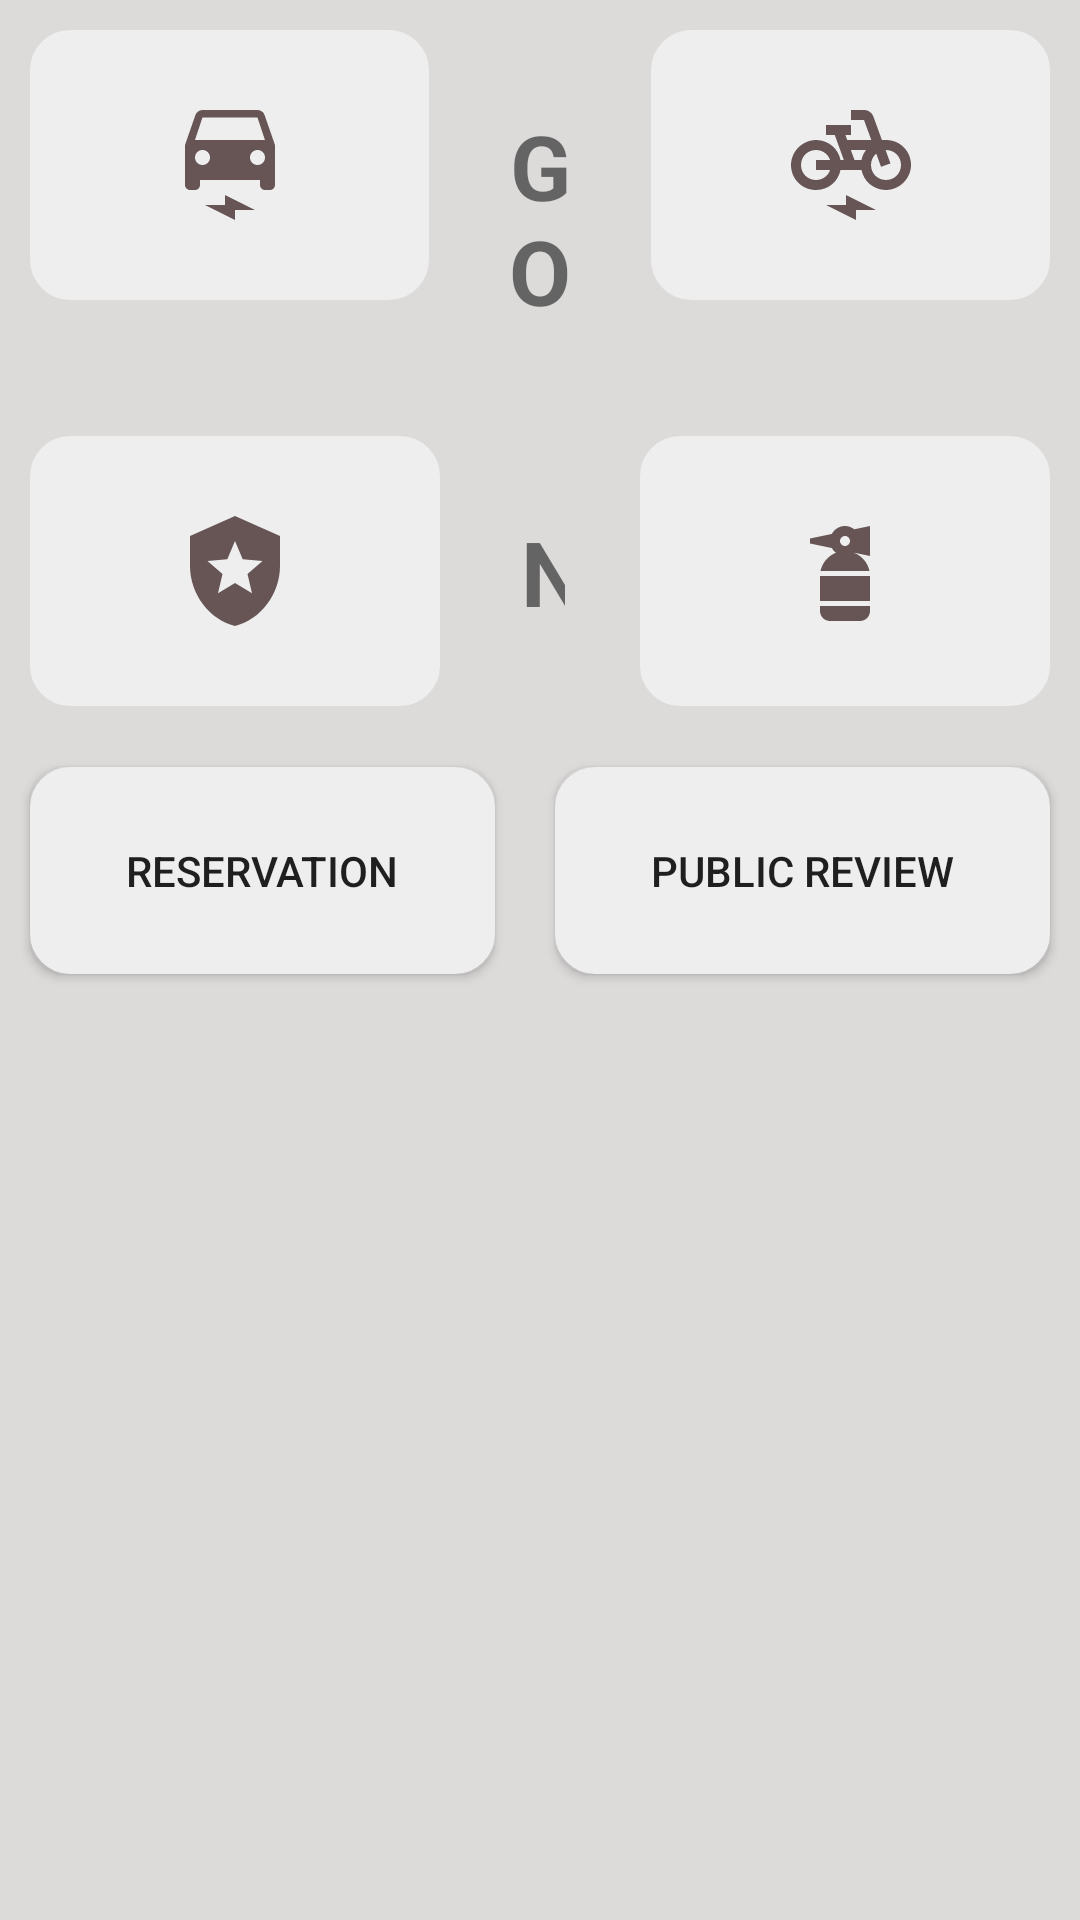

Icon bounding boxes for this 1080px x 1920px phone screenshot, format (x1,y1,x2,y2):
fire extinguisher: (810,526,870,621)
local police: (190,516,280,626)
